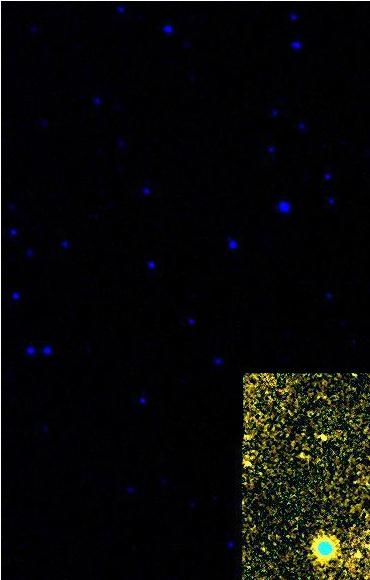star: (308, 534, 338, 564)
